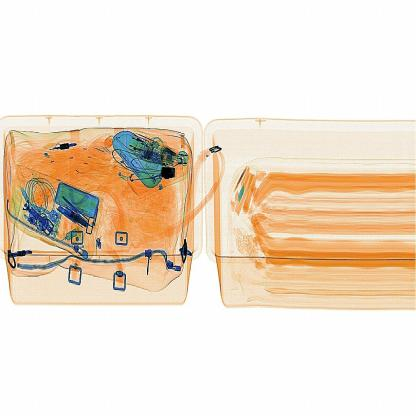scissors: (157, 158, 189, 187)
